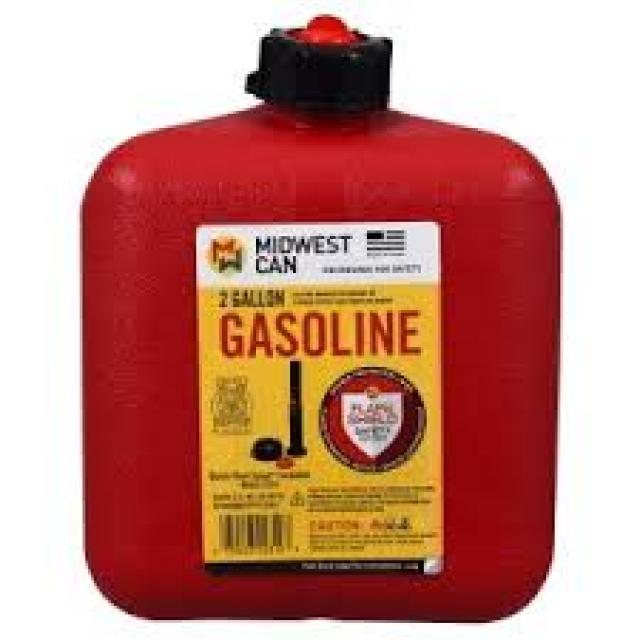gasolin: (84, 15, 560, 621)
